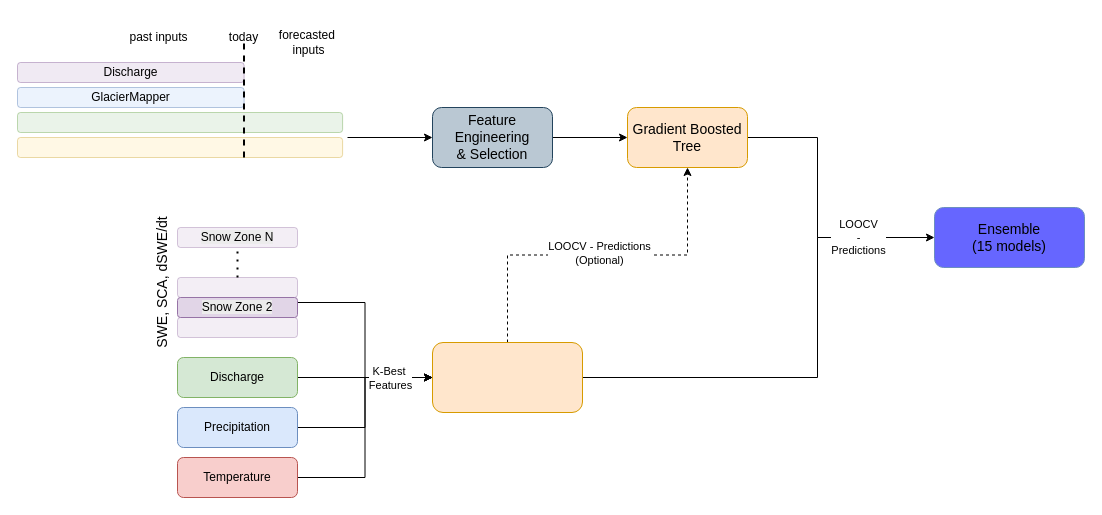
This 1102x515 diagram has some shape labels left out. Each missing label, with the centre of its shape:
ERA5-Land ECMWF: point (179, 122)
Linear Regression: point (507, 377)
Snow Zone 1: point (237, 327)
Snow Zone 3: point (237, 287)
Snowmapper ................................. Forecast: point (179, 147)
